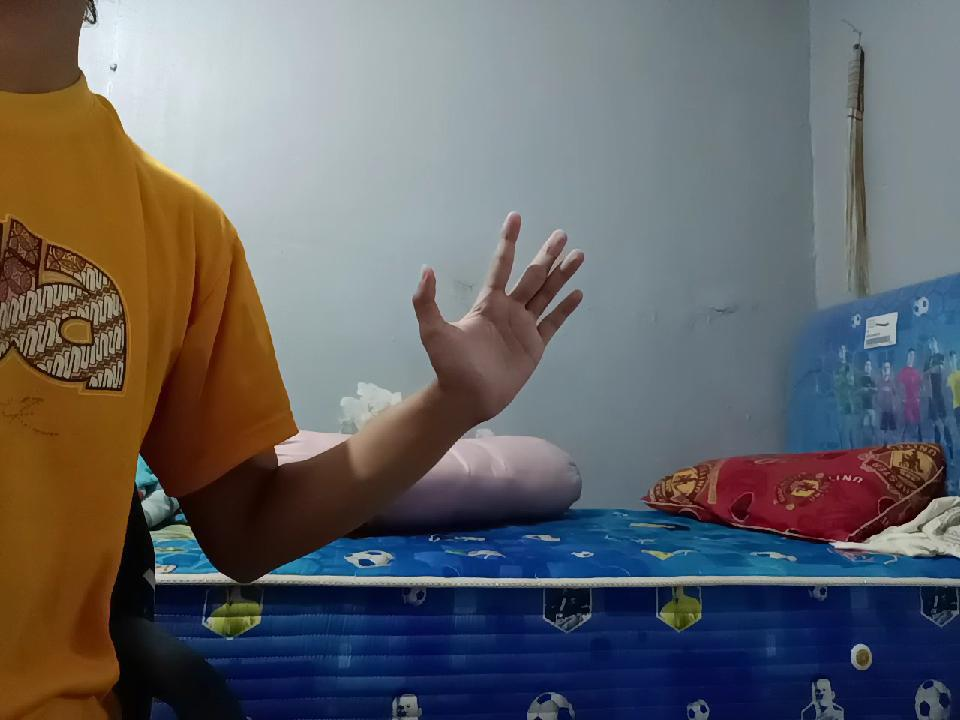paper: (402, 204, 582, 418)
